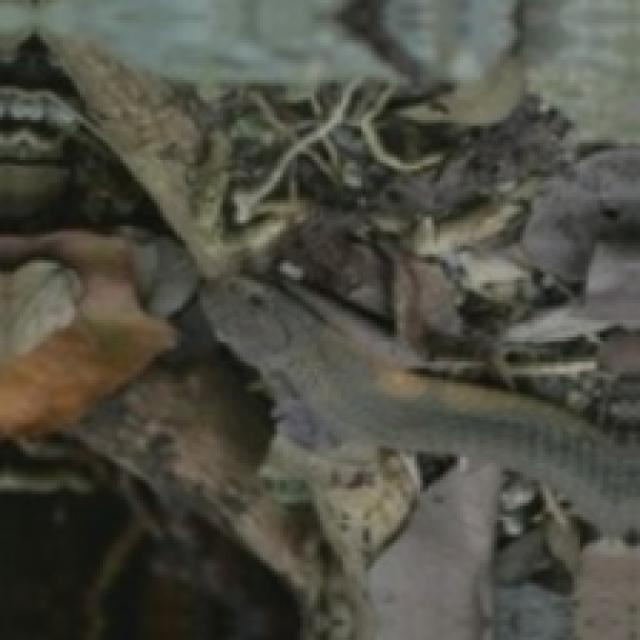king cobra: (0, 0, 637, 637), (0, 31, 637, 551), (554, 426, 637, 540), (0, 260, 80, 346), (571, 320, 637, 377)
